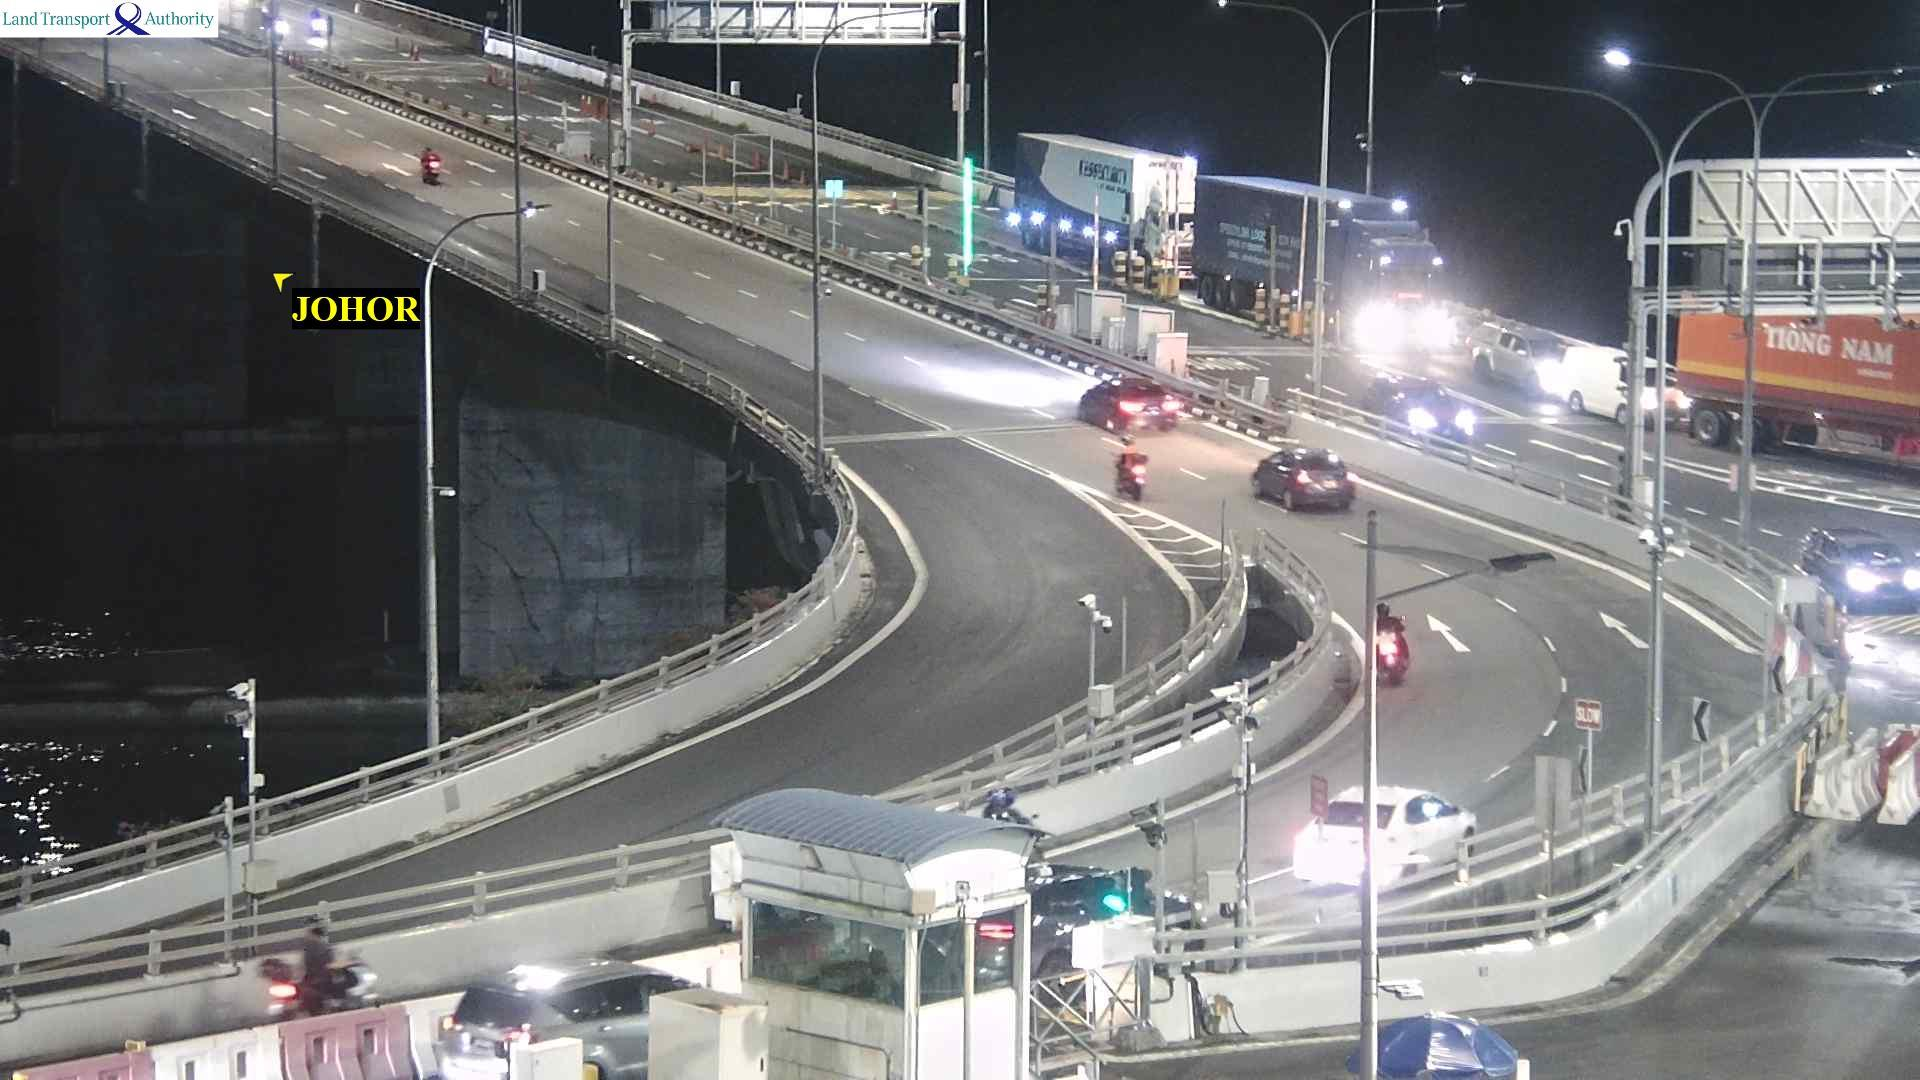vehicle-secondlink-johor: (448, 967, 705, 1080), (1033, 861, 1207, 976), (1292, 785, 1478, 889), (261, 920, 378, 1019), (1251, 450, 1358, 518), (1075, 376, 1179, 436), (1377, 600, 1408, 679), (1114, 434, 1146, 500), (984, 789, 1033, 827), (419, 145, 442, 181), (736, 297, 736, 298)
vehicle-secondlink-singapore: (1681, 290, 1920, 477), (1197, 177, 1431, 356), (1015, 128, 1192, 282), (1800, 522, 1920, 617), (1555, 348, 1689, 427), (1360, 371, 1472, 446), (1466, 314, 1561, 394), (307, 8, 327, 37)
